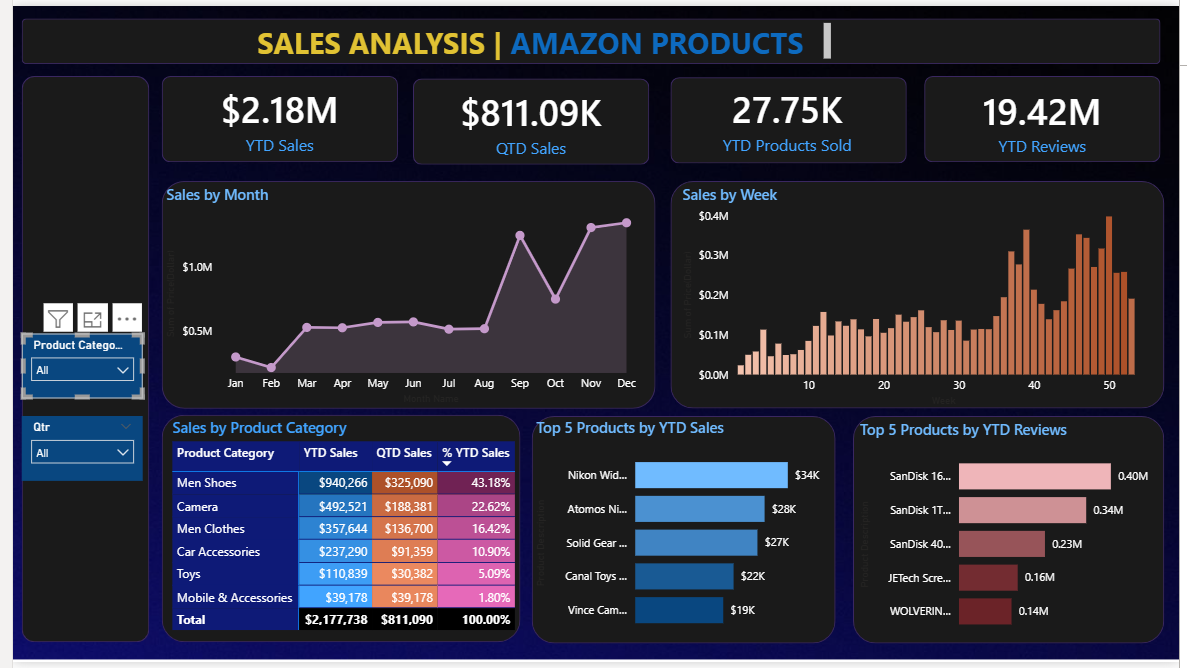

This screenshot's page, from the dashboard's own definition file:
{"tool":"powerbi","page":{"name":"Page 1","canvas":[1280,720],"ordinal":0},"visuals":[{"type":"shape","box":[439.1,79.6,259.3,94.7],"z":0},{"type":"shape","box":[9.6,13.7,1250,50],"z":1000},{"type":"textbox","box":[263.5,13.7,639.5,50.8],"z":2000},{"type":"shape","box":[9.6,76.8,140,621.6],"z":3000},{"type":"shape","box":[163.3,76.8,259.3,94.7],"z":4000},{"type":"card","fields":{"Values":["Amazon_Data.YTD Sales"]},"box":[163.3,76.8,259.3,94.7],"z":5000},{"type":"card","fields":{"Values":["Amazon_Data.QTD Sales"]},"box":[439.1,79.6,259.3,94.7],"z":6000},{"type":"shape","box":[721.3,78.2,259.3,94.7],"z":7000},{"type":"shape","box":[1000.3,76.8,259.3,94.7],"z":8000},{"type":"card","fields":{"Values":["Amazon_Data.YTD Products Sold"]},"box":[720.4,76.8,259.3,94.7],"z":9000},{"type":"card","fields":{"Values":["Amazon_Data.YTD Reviews"]},"box":[1000.3,79.6,259.3,91.9],"z":10000},{"type":"shape","box":[163.3,192.1,542,250],"z":11000},{"type":"areaChart","title":"Sales  by Month","fields":{"Category":["Date Table.Month Name"],"Y":["Sum(Amazon_Data.Price(Dollar))"]},"box":[163.3,194.9,531,247],"z":12000},{"type":"shape","box":[721.8,192.1,542,249.7],"z":13000},{"type":"columnChart","title":"Sales by Week","fields":{"Category":["Date Table.Week"],"Y":["Sum(Amazon_Data.Price(Dollar))"]},"box":[730,194.9,526.9,249.7],"z":14000},{"type":"shape","box":[163.3,448.7,393.8,249.7],"z":15000},{"type":"pivotTable","title":"Sales by Product Category","fields":{"Rows":["Amazon_Data.Product Category"],"Values":["Amazon_Data.YTD Sales1","Amazon_Data.QTD Sales","Amazon_Data.YTD Sales"]},"box":[170.2,451.5,399.3,247],"z":16000},{"type":"shape","box":[569.5,450.1,333.4,249.7],"z":17000},{"type":"shape","box":[922.1,450.1,341.7,249.7],"z":18000},{"type":"clusteredBarChart","title":"Top 5 Products by YTD Sales","fields":{"Category":["Amazon_Data.Product Description"],"Y":["Amazon_Data.YTD Sales"]},"box":[570,451.4,332.9,247.1],"z":19000},{"type":"clusteredBarChart","title":"Top 5 Products by YTD Reviews","fields":{"Category":["Amazon_Data.Product Description"],"Y":["Amazon_Data.YTD Reviews"]},"box":[924.3,452.9,332.9,247.1],"z":19001},{"type":"slicer","fields":{"Values":["Amazon_Data.Product Category"]},"box":[10,360,132.9,71.4],"z":19002},{"type":"slicer","fields":{"Values":["Date Table.Qtr"]},"box":[10,450,132.9,71.4],"z":19003}]}

Visuals, with their boxes in screenshot pixels (x1, y1, x2, y2), scaled from the page's 1280x720 canvas onto the 1187x668 screenshot:
shape: box(407, 74, 648, 162)
shape: box(9, 13, 1168, 59)
textbox: box(244, 13, 837, 60)
shape: box(9, 71, 139, 648)
shape: box(151, 71, 392, 159)
card - Amazon_Data.YTD Sales: box(151, 71, 392, 159)
card - Amazon_Data.QTD Sales: box(407, 74, 648, 162)
shape: box(669, 73, 909, 160)
shape: box(928, 71, 1168, 159)
card - Amazon_Data.YTD Products Sold: box(668, 71, 909, 159)
card - Amazon_Data.YTD Reviews: box(928, 74, 1168, 159)
shape: box(151, 178, 654, 410)
"Sales  by Month" areaChart: box(151, 181, 644, 410)
shape: box(669, 178, 1172, 410)
"Sales by Week" columnChart: box(677, 181, 1166, 412)
shape: box(151, 416, 517, 648)
"Sales by Product Category" pivotTable: box(158, 419, 528, 648)
shape: box(528, 418, 837, 649)
shape: box(855, 418, 1172, 649)
"Top 5 Products by YTD Sales" clusteredBarChart: box(529, 419, 837, 648)
"Top 5 Products by YTD Reviews" clusteredBarChart: box(857, 420, 1166, 649)
slicer - Amazon_Data.Product Category: box(9, 334, 133, 400)
slicer - Date Table.Qtr: box(9, 418, 133, 484)
